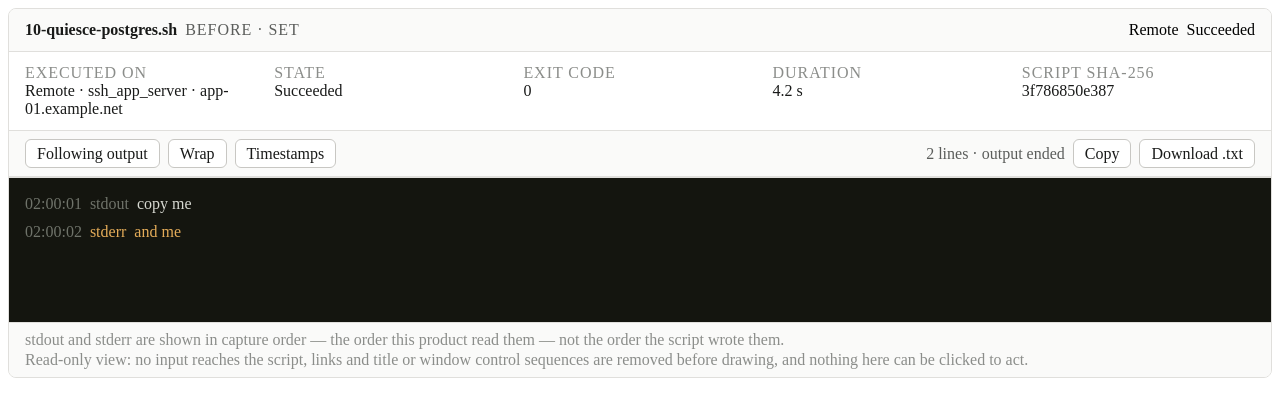
Scenario: copy and download › copies exactly what the file would hold, so the two cannot disagree
Check: the text "and me" is shown, box [134,218,181,246]
Click the button "Copy": (1102, 154) [1073,139,1132,168]
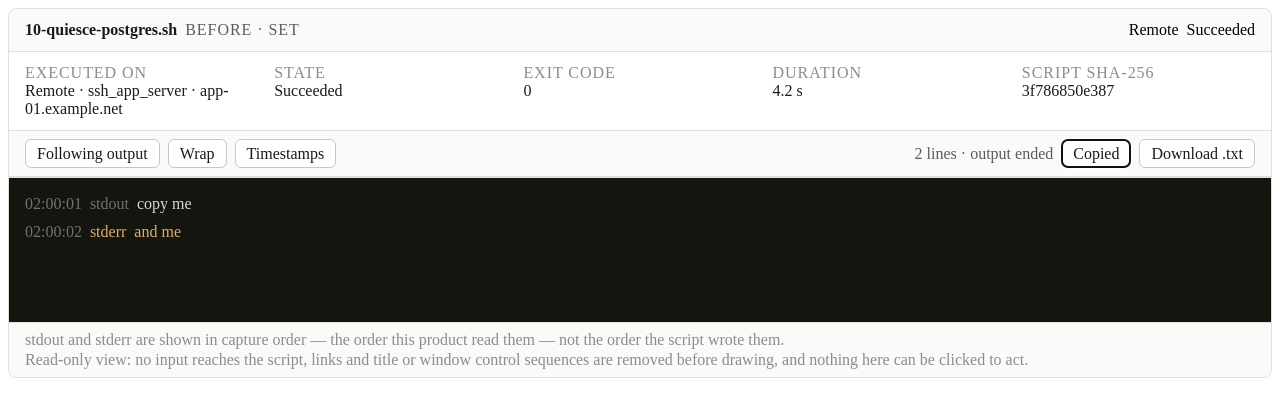
Check: the button "Copied" is shown, box [1061,139,1131,168]
